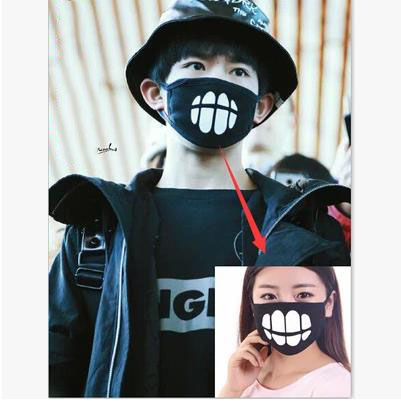face_mask: (164, 25, 262, 147), (251, 262, 325, 349)
